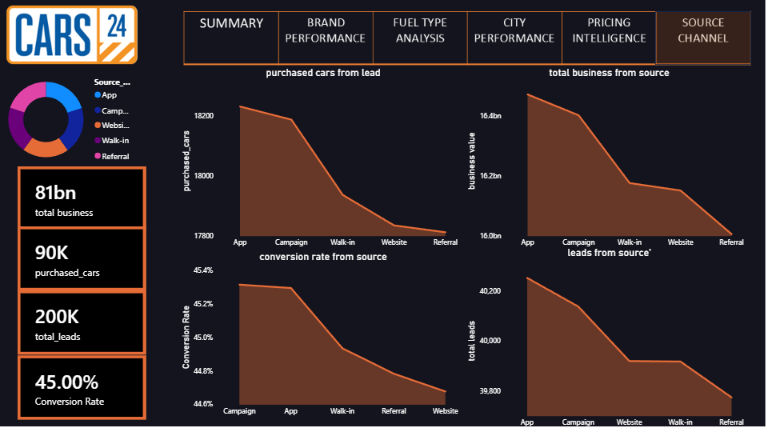

This screenshot's page, from the dashboard's own definition file:
{"tool":"powerbi","page":{"name":"source channel","canvas":[1280,720],"ordinal":5},"visuals":[{"type":"areaChart","title":"leads from source''","fields":{"Category":["Cars24_Realistic_Dataset_FULL_c.Source_Channel"],"Y":["CountNonNull(Cars24_Realistic_Dataset_FULL_c.Lead_ID)"]},"box":[781.4,412.9,475.7,307.1],"z":0},{"type":"areaChart","title":"purchased cars from lead","fields":{"Category":["Cars24_Realistic_Dataset_FULL_c.Source_Channel"],"Y":["Cars24_Realistic_Dataset_FULL_c.purchased_cars"]},"box":[305.7,112.9,475.7,307.1],"z":1000},{"type":"areaChart","title":"total business from source","fields":{"Category":["Cars24_Realistic_Dataset_FULL_c.Source_Channel"],"Y":["Cars24_Realistic_Dataset_FULL_c.total_buisness_value"]},"box":[781.4,112.9,475.7,307.1],"z":2000},{"type":"areaChart","title":"conversion rate from source ","fields":{"Category":["Cars24_Realistic_Dataset_FULL_c.Source_Channel"],"Y":["Cars24_Realistic_Dataset_FULL_c.Conversion Rate"]},"box":[305.7,420,475.7,281.4],"z":3000},{"type":"donutChart","fields":{"Category":["Cars24_Realistic_Dataset_FULL_c.Source_Channel"],"Y":["Cars24_Realistic_Dataset_FULL_c.total_leads"]},"box":[0,122.9,230,157.1],"z":4000},{"type":"cardVisual","fields":{"Data":["Cars24_Realistic_Dataset_FULL_c.total_buisness_value"]},"box":[32.9,280,214.3,107.1],"z":5000},{"type":"cardVisual","fields":{"Data":["Cars24_Realistic_Dataset_FULL_c.purchased_cars"]},"box":[32.9,380,214.3,107.1],"z":6000},{"type":"cardVisual","fields":{"Data":["Cars24_Realistic_Dataset_FULL_c.total_leads"]},"box":[32.9,487.1,214.3,107.1],"z":7000},{"type":"cardVisual","fields":{"Data":["Cars24_Realistic_Dataset_FULL_c.Conversion Rate"]},"box":[32.9,594.3,214.3,107.1],"z":8000},{"type":"actionButton","box":[470,22.7,154.5,92.7],"z":8001},{"type":"actionButton","box":[624.5,22.7,158.2,92.7],"z":8002},{"type":"actionButton","box":[782.7,22.7,158.2,92.7],"z":8003},{"type":"actionButton","box":[940.9,22.7,158.2,92.7],"z":8004},{"type":"actionButton","box":[311.8,23.6,154.5,92.7],"z":8005}]}

Visuals, with their boxes in screenshot pixels (x1, y1, x2, y2), scaled from the page's 1280x720 canvas onto the 766x427 screenshot:
"leads from source''" areaChart: rect(468, 245, 752, 426)
"purchased cars from lead" areaChart: rect(183, 67, 468, 249)
"total business from source" areaChart: rect(468, 67, 752, 249)
"conversion rate from source " areaChart: rect(183, 249, 468, 416)
donutChart - Cars24_Realistic_Dataset_FULL_c.Source_Channel x Cars24_Realistic_Dataset_FULL_c.total_leads: rect(0, 73, 138, 166)
cardVisual - Cars24_Realistic_Dataset_FULL_c.total_buisness_value: rect(20, 166, 148, 230)
cardVisual - Cars24_Realistic_Dataset_FULL_c.purchased_cars: rect(20, 225, 148, 289)
cardVisual - Cars24_Realistic_Dataset_FULL_c.total_leads: rect(20, 289, 148, 352)
cardVisual - Cars24_Realistic_Dataset_FULL_c.Conversion Rate: rect(20, 352, 148, 416)
actionButton: rect(281, 13, 374, 68)
actionButton: rect(374, 13, 468, 68)
actionButton: rect(468, 13, 563, 68)
actionButton: rect(563, 13, 658, 68)
actionButton: rect(187, 14, 279, 69)
